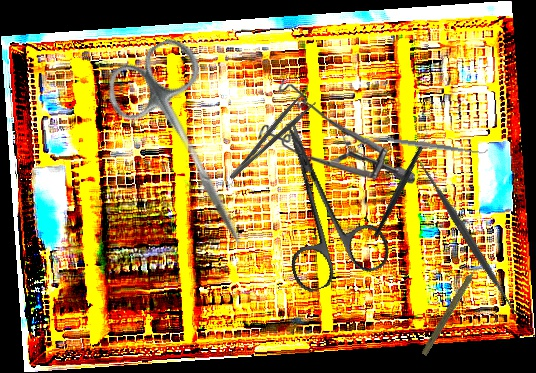Chopper: (342, 123, 460, 239)
Dressing Forceps: (220, 89, 318, 183)
Handpiece: (419, 257, 487, 359)
Iris Scissors: (96, 30, 287, 267), (246, 105, 395, 296)
Spatula Surgical: (409, 152, 528, 324), (363, 130, 489, 161)
Speculum: (257, 77, 415, 187)
